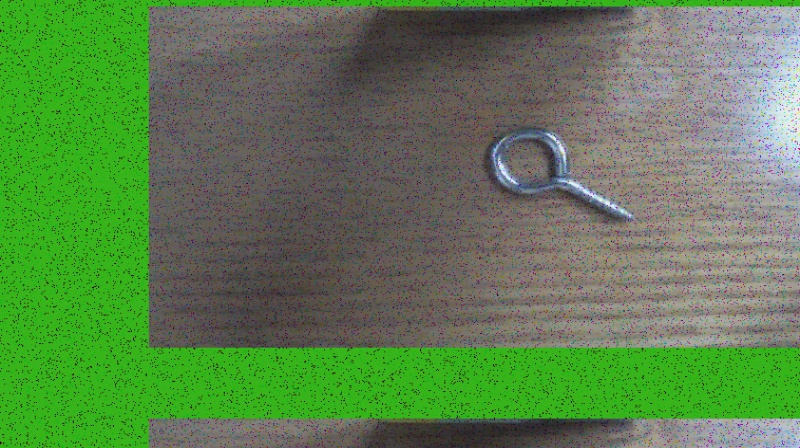O001: (482, 124, 636, 224)
